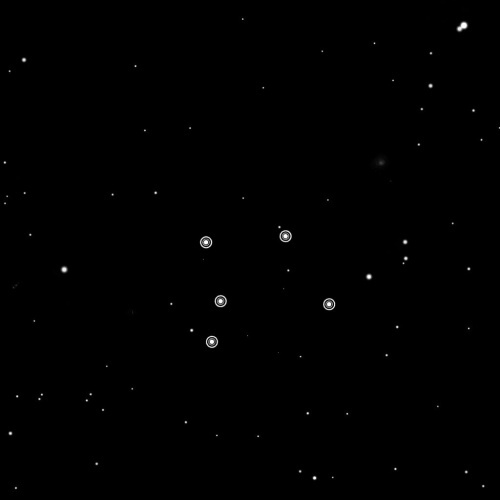libra: (191, 226, 341, 352)
